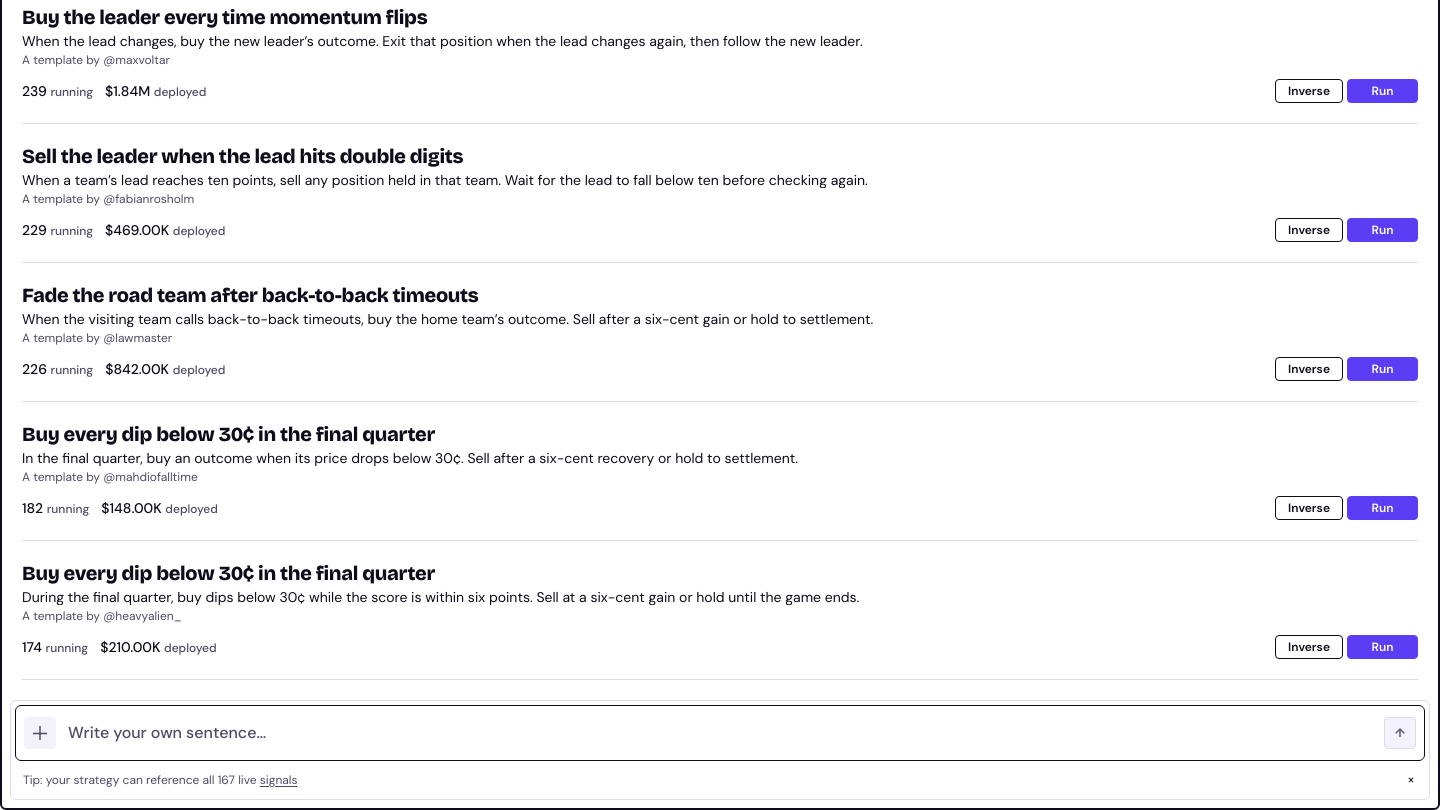
Test: Kyros chat › renders Kyros's Markdown as prose and keeps the user's asterisks literal
(page scrolled)
In the field named "Message Kyros": (720, 733) [68,724,1372,742], type "what is 2 ** 3"
Then press Enter
(page scrolled)
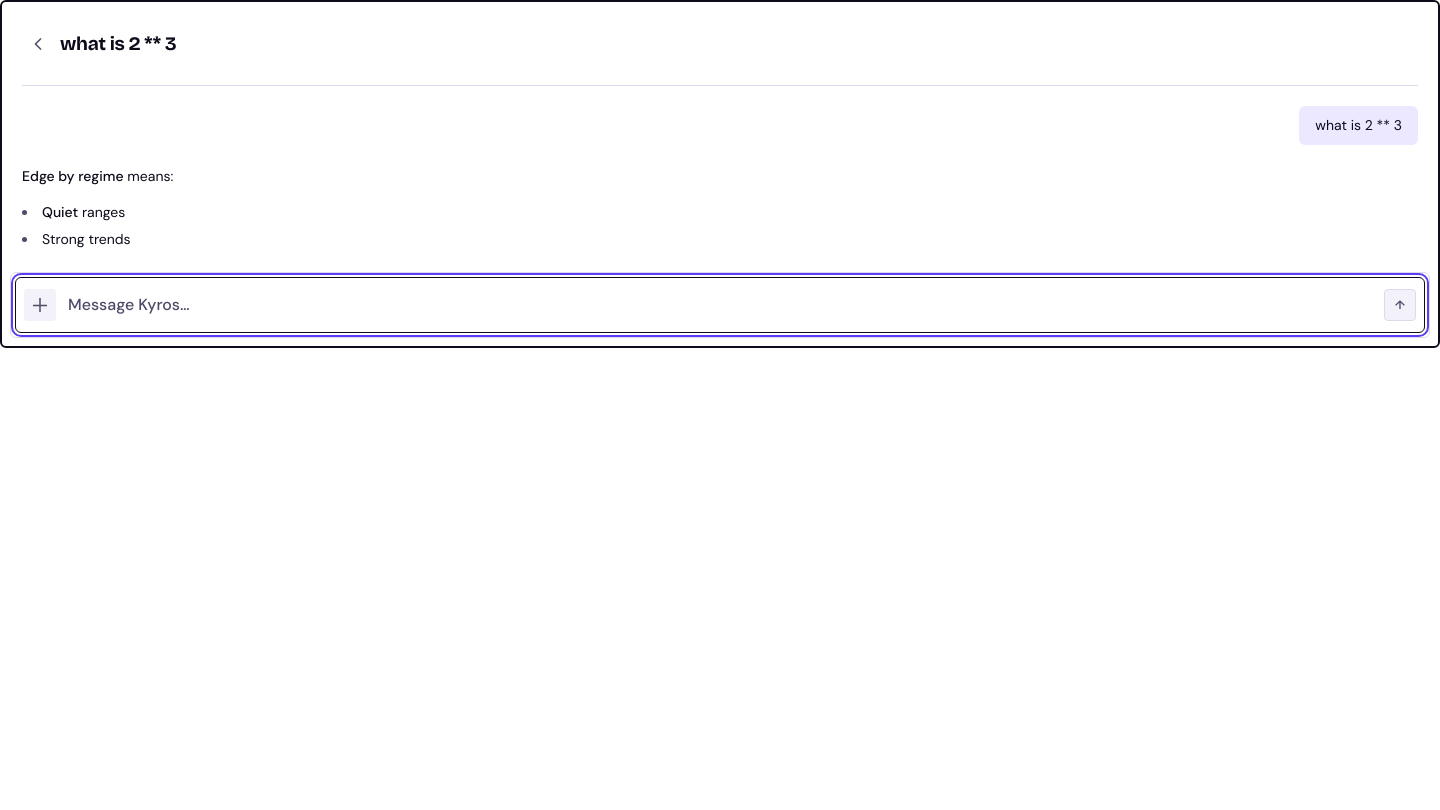
Check: the element named "You" reads "what is 2 ** 3", box [1315,116,1402,134]
Check: the list items read "Quiet ranges", "Strong trends", in this order, box [42,202,125,220]; [42,230,131,248]
Check: the element named "Kyros" shows "Edge by regime means:", box [22,165,173,248]
